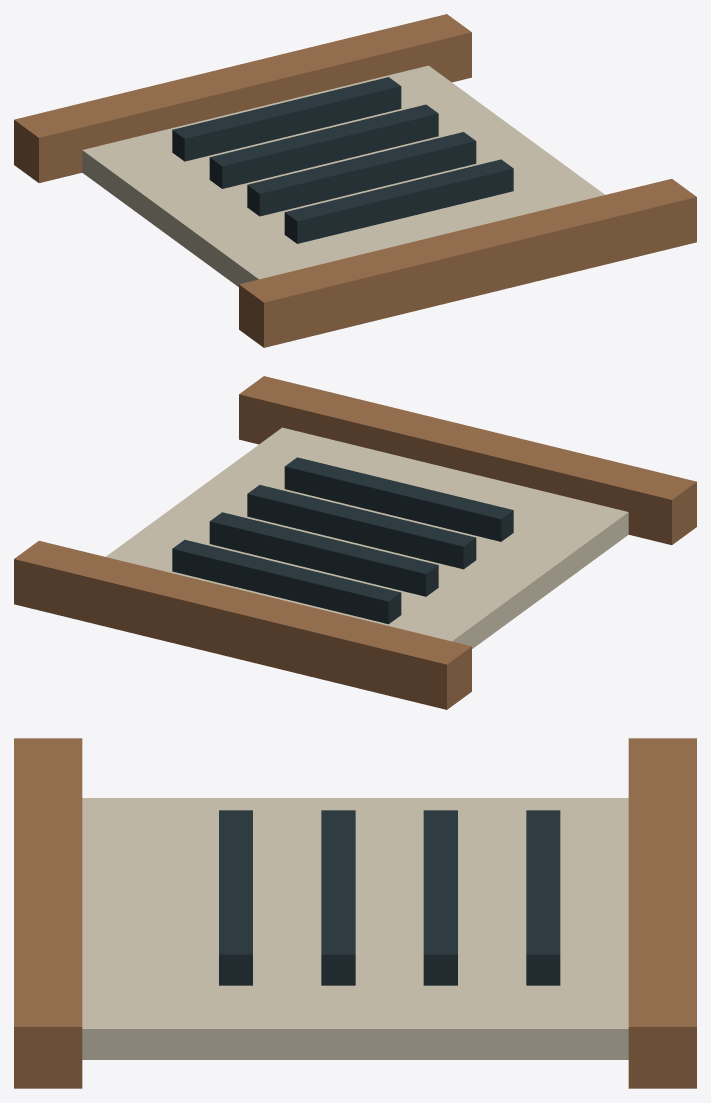
File: construction-09.glb
The picture shows the model from 3 angles, top to bottom: view 1: azimuth 30°, elevation 25°; view 2: azimuth 150°, elevation 25°; view 3: azimuth 270°, elevation 25°; orthographic projection. The views are drawn at different scales.
Visible parts, largest first — view 1: Site blueprint; view 2: Site blueprint; view 3: Site blueprint.
Part boxes in pixels (<box>): Site blueprint: <box>14,14,696,347</box>; Site blueprint: <box>14,376,696,709</box>; Site blueprint: <box>14,738,696,1088</box>.
Bounding box in the file's own units: 1.6 × 0.16 × 1.6.
